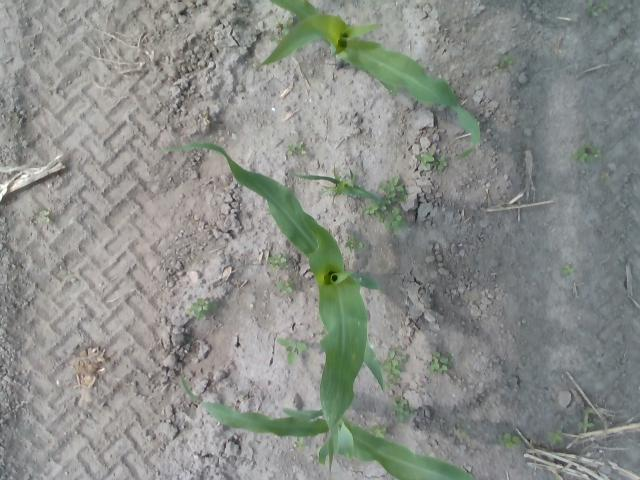Maize: (167, 141, 386, 474), (258, 0, 482, 157), (177, 370, 471, 480), (297, 168, 380, 202)
Weeds: (280, 338, 310, 364), (384, 349, 403, 379), (190, 297, 216, 316), (382, 176, 404, 196), (387, 205, 402, 231), (576, 142, 594, 162), (429, 354, 450, 371), (416, 149, 434, 168), (396, 398, 410, 422), (505, 432, 520, 450), (270, 254, 286, 270), (274, 280, 292, 294), (550, 428, 564, 445), (287, 140, 303, 154), (372, 424, 389, 436), (346, 239, 364, 250), (579, 418, 593, 432), (36, 210, 52, 222), (588, 1, 602, 14), (500, 55, 512, 68), (378, 199, 392, 210), (296, 438, 308, 450), (437, 156, 447, 170), (364, 205, 378, 215), (562, 260, 572, 272), (602, 0, 612, 10), (600, 168, 609, 178), (460, 428, 468, 436)
